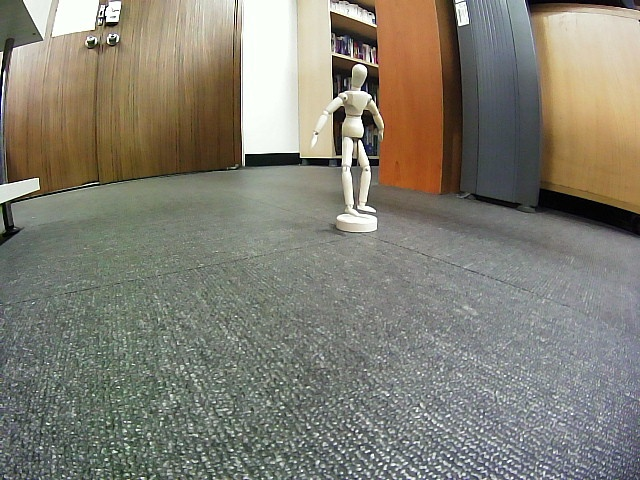person: (310, 63, 385, 216)
